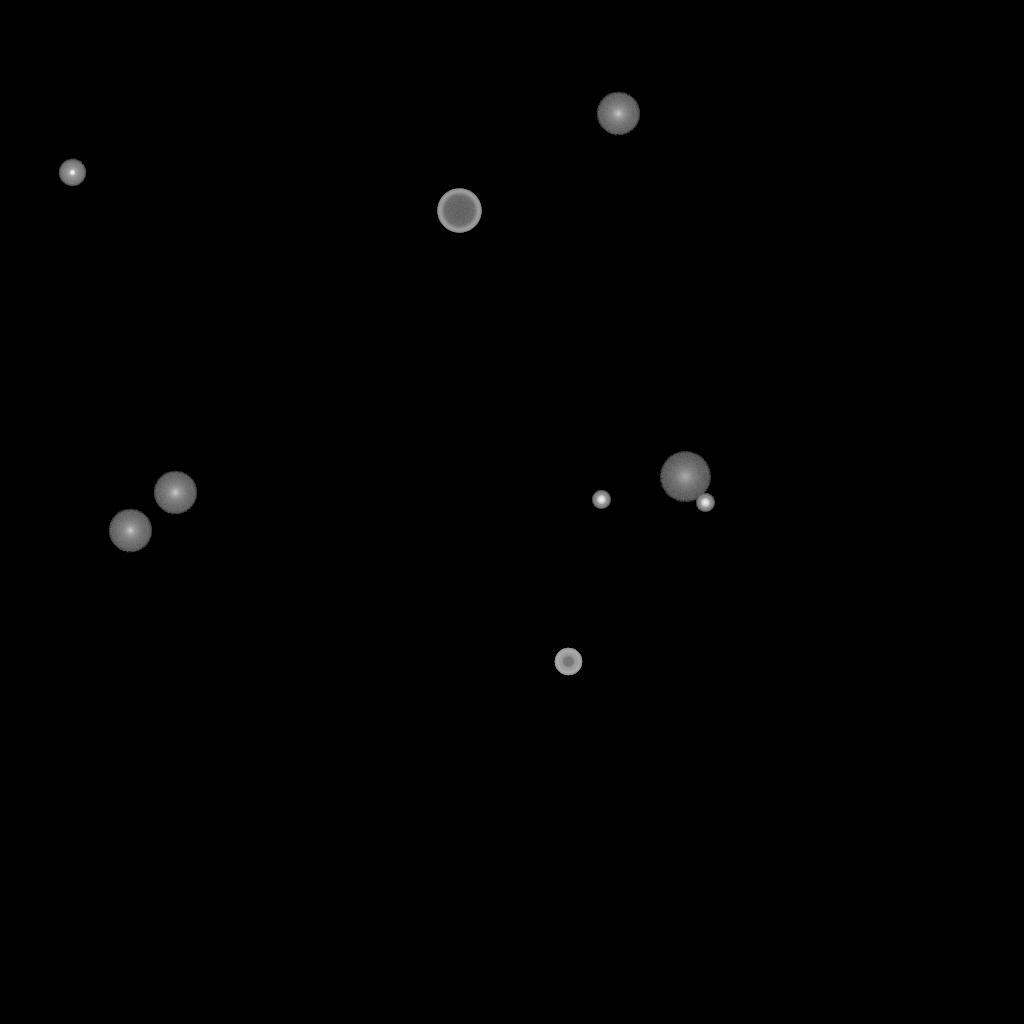depth:-10: (58, 159, 86, 187)
depth:-20: (696, 494, 714, 512), (592, 491, 610, 509)
depth:-50: (554, 648, 582, 676)
depth:-70: (437, 189, 481, 233)
depth:10: (153, 471, 197, 515), (108, 509, 152, 553), (596, 92, 640, 136)
depth:20: (659, 452, 711, 502)
